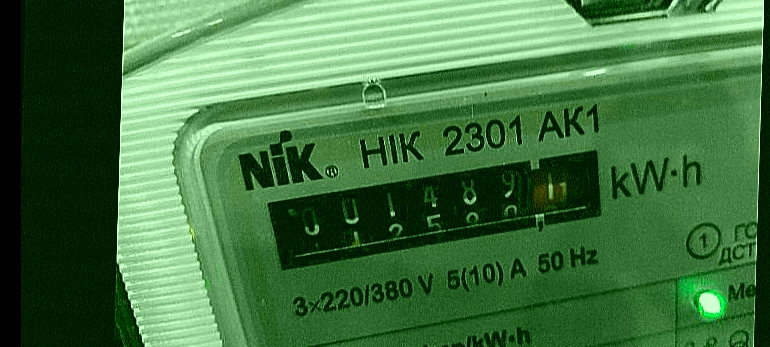0: (335, 191, 362, 228), (296, 204, 322, 240)
1: (539, 165, 559, 204), (379, 189, 400, 220)
4: (417, 180, 440, 211)
8: (457, 173, 480, 210)
9: (497, 168, 518, 201)
screen: (252, 131, 632, 293)
